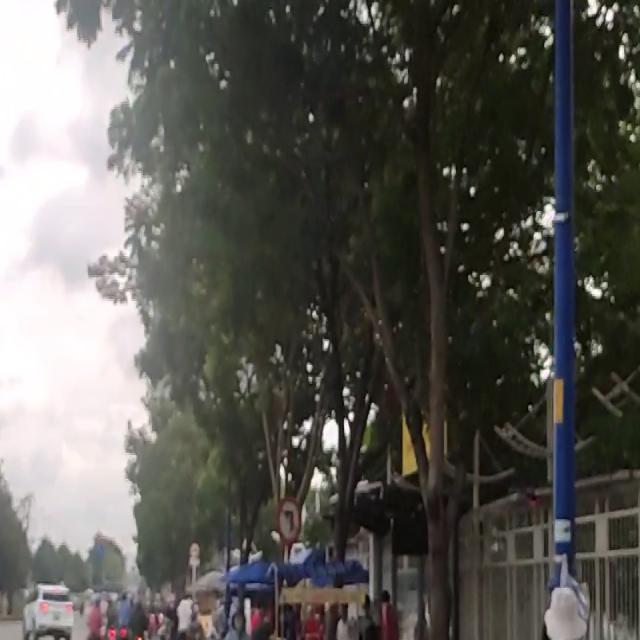Bien bao cam re trai: (276, 496, 304, 546)
